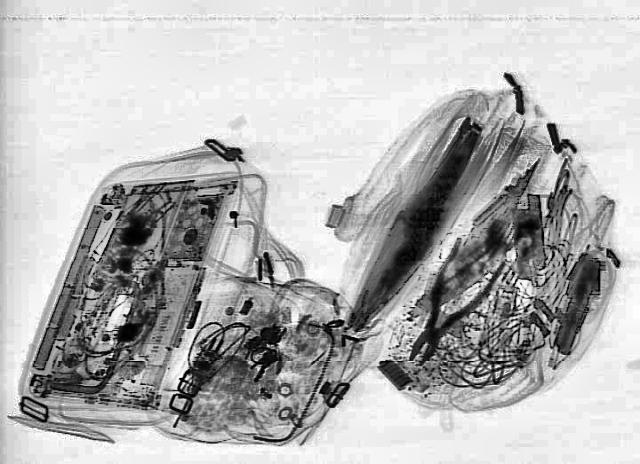Pliers: (383, 236, 515, 372)
